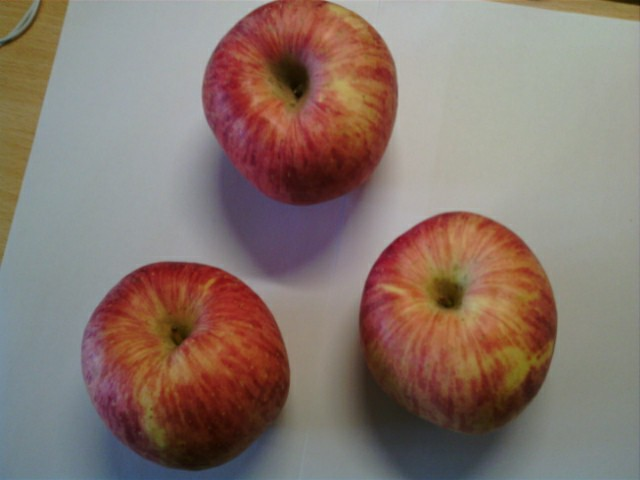normal_apple: (355, 208, 556, 442), (79, 265, 295, 470), (197, 1, 399, 209)
